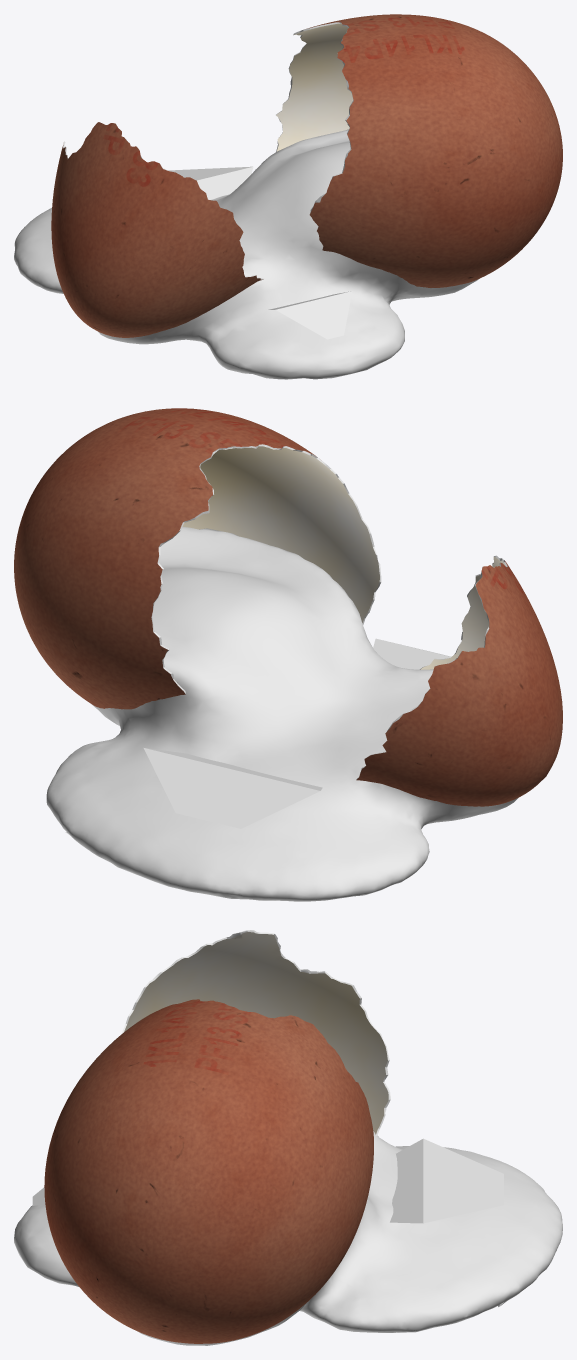
The model's file is egg.fbx.
The picture shows the model from 3 angles, top to bottom: view 1: azimuth 30°, elevation 25°; view 2: azimuth 150°, elevation 25°; view 3: azimuth 270°, elevation 25°; orthographic projection. The views are drawn at different scales.
Visible parts, largest first — view 1: Bake_target, blanc, Bake_target.001, Ground; view 2: blanc, Bake_target, Bake_target.001, Ground; view 3: Bake_target, blanc, Bake_target.001, Ground.
Boxes of the visible parts, x1,y1,x2,y2 form: Bake_target: [276, 14, 562, 287]; blanc: [14, 129, 478, 379]; Bake_target.001: [51, 122, 263, 337]; Ground: [168, 166, 352, 339]; blanc: [46, 527, 518, 901]; Bake_target: [14, 408, 381, 709]; Bake_target.001: [356, 555, 562, 806]; Ground: [143, 638, 451, 828]; Bake_target: [44, 999, 373, 1343]; blanc: [14, 1131, 562, 1345]; Bake_target.001: [122, 930, 390, 1135]; Ground: [32, 1138, 503, 1223].
Bounding box in the file's own units: 377 × 200 × 340.
